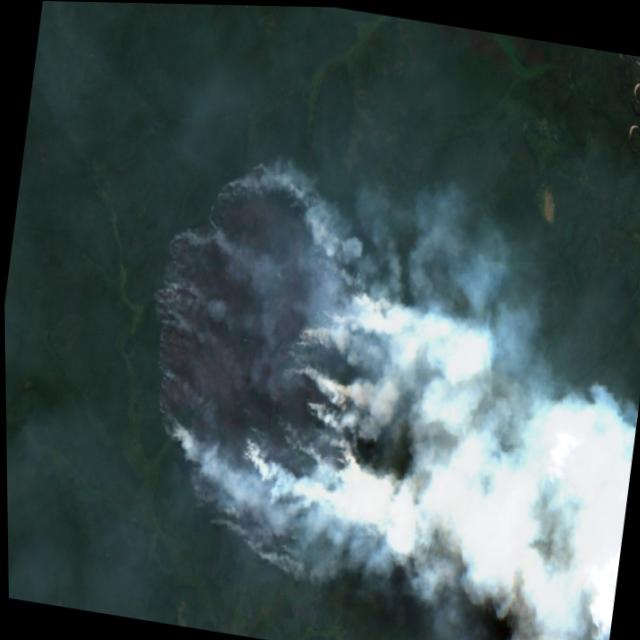fire: (106, 146, 385, 584)
